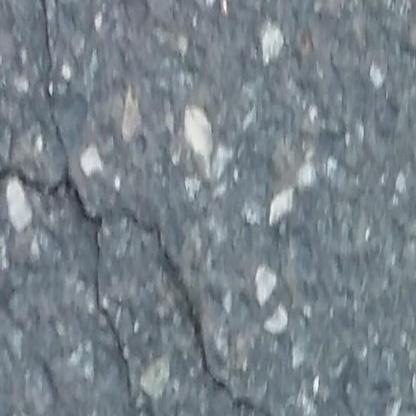Cracks: (0, 0, 169, 416), (118, 203, 286, 416), (0, 257, 70, 416)
